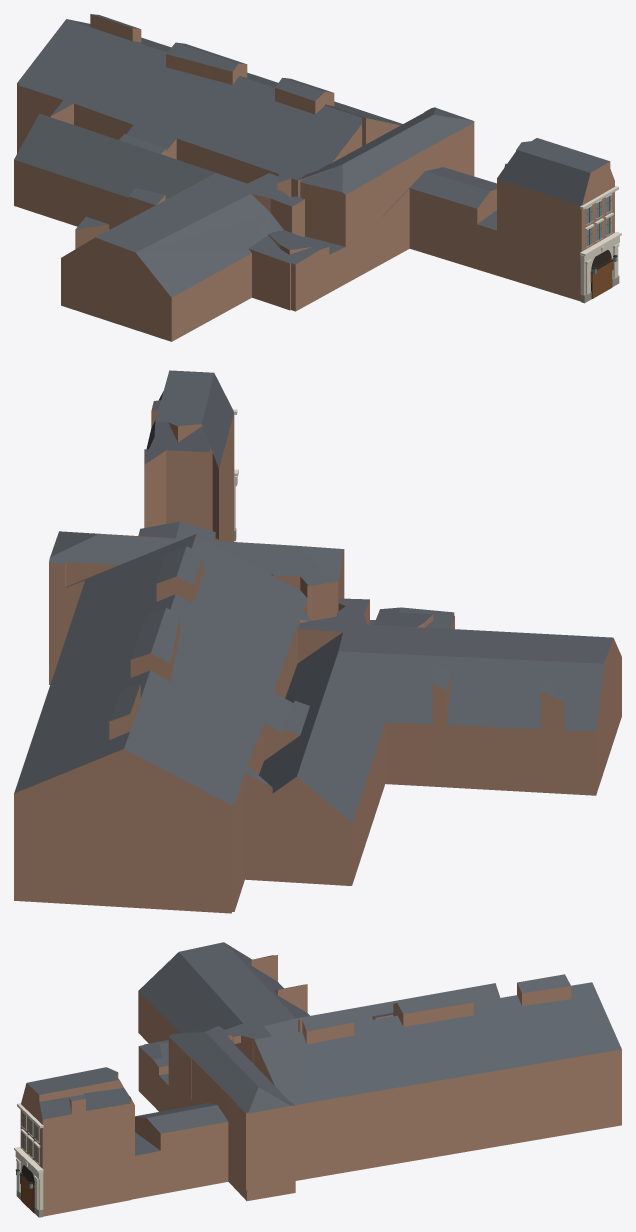
The model's file is levend-paardenmuseum.glb.
3 renders of one model, top to bottom at view 1: azimuth 30°, elevation 25°; view 2: azimuth 150°, elevation 25°; view 3: azimuth 270°, elevation 25°, orthographic. The views are drawn at different scales.
Parts seen in each view (by area): view 1: levend-paardenmuseum; view 2: levend-paardenmuseum; view 3: levend-paardenmuseum.
Part boxes in pixels (box(x1,y1,x2,y2)): levend-paardenmuseum: box(14, 14, 621, 341); levend-paardenmuseum: box(14, 370, 621, 913); levend-paardenmuseum: box(14, 942, 621, 1217).
Size of the model in its own units: 60.49 by 16.98 by 75.
